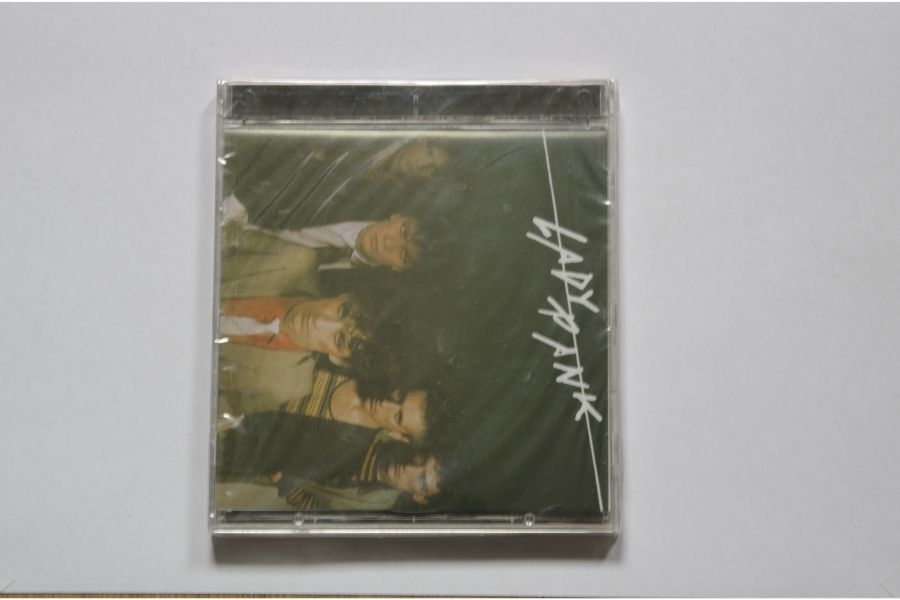album: (209, 79, 618, 535)
